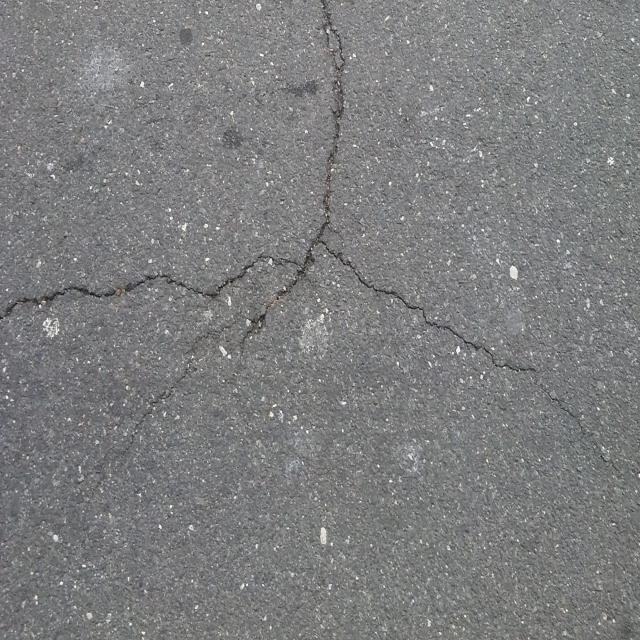Crack: (0, 0, 621, 475), (120, 289, 240, 464)
